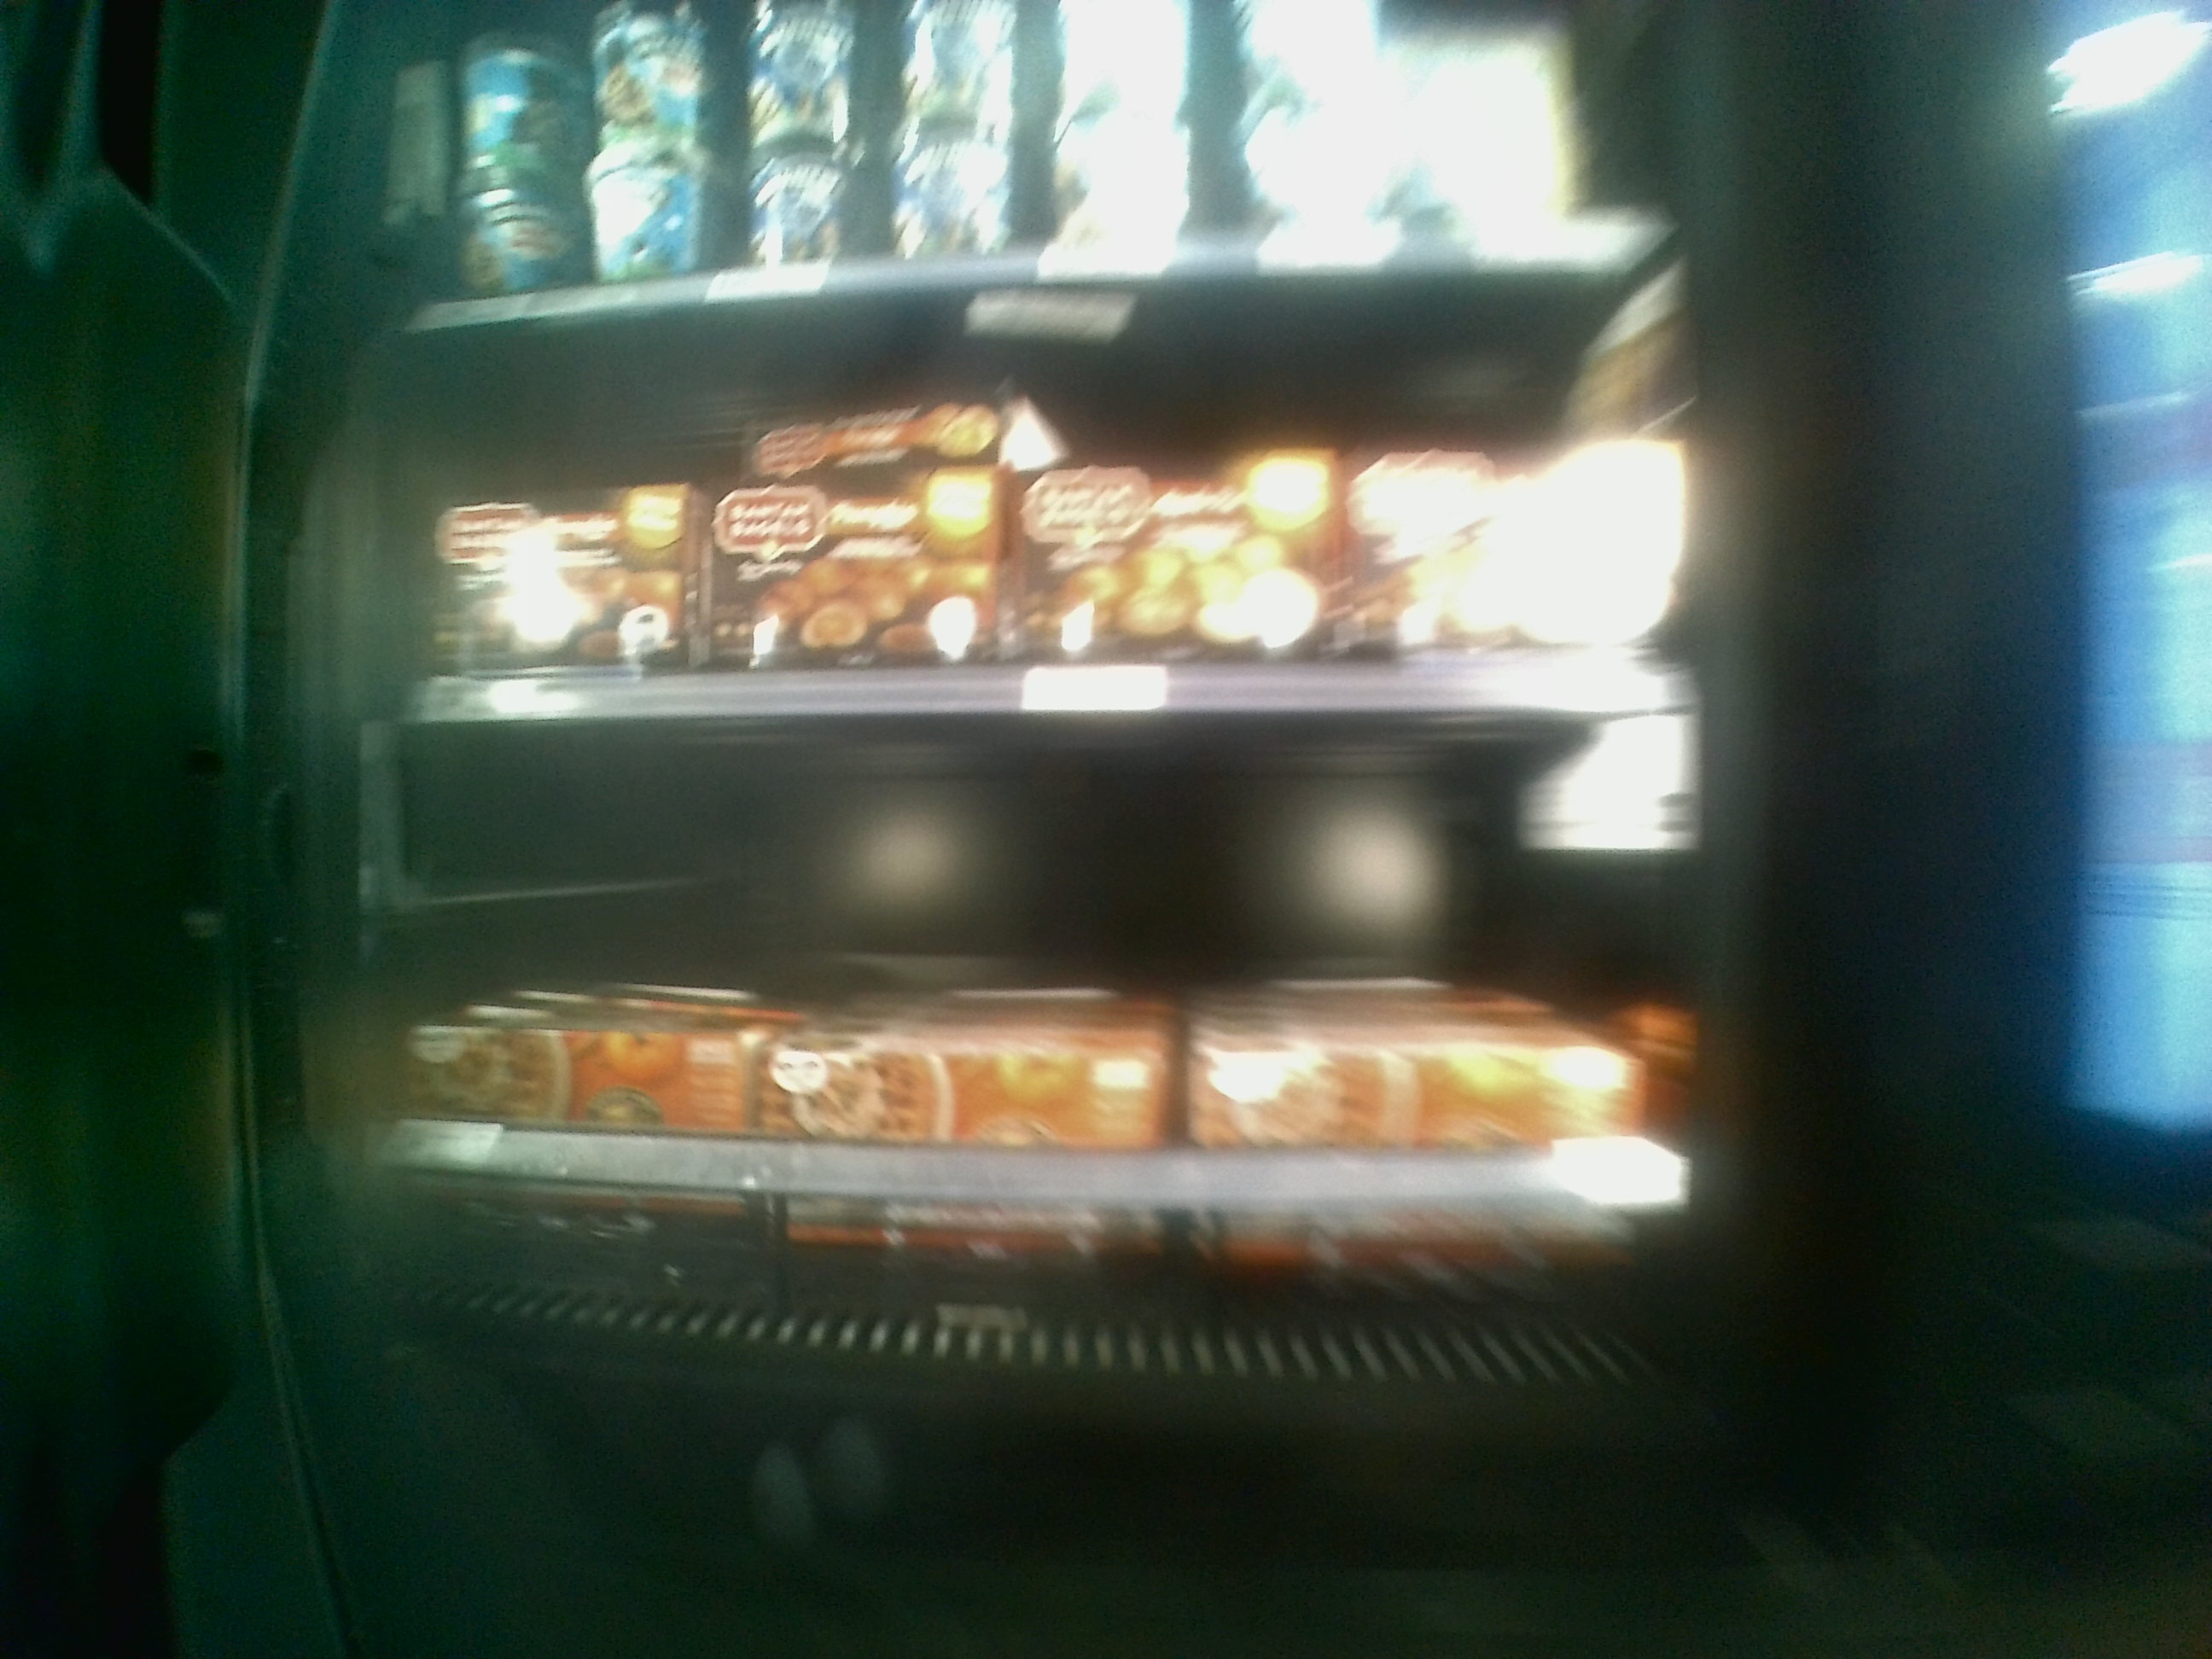shelf: (340, 708, 1737, 1412), (366, 321, 1710, 708)
